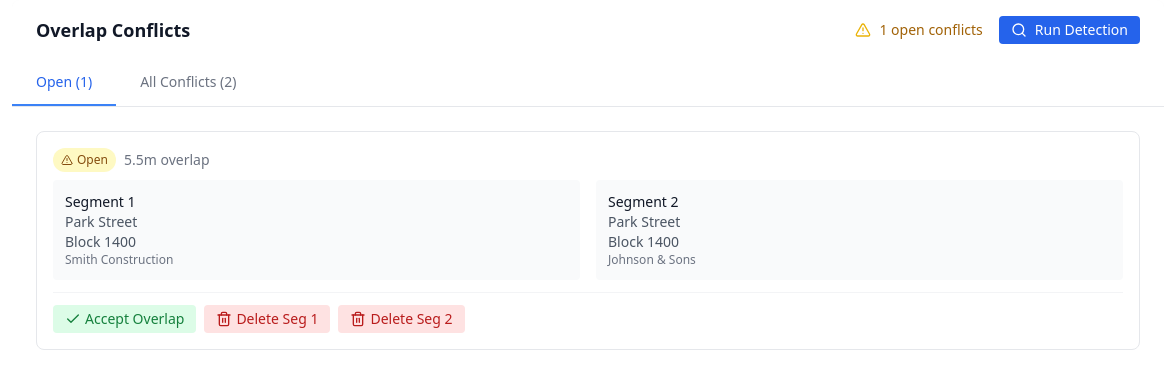
AdminConflictResolution Component › disables buttons while processing
Expected: the text "Park Street" below "Segment 1" is shown, [65, 212, 137, 231]
Click the button "Accept Overlap".
click(125, 319)  # box [53, 305, 196, 333]
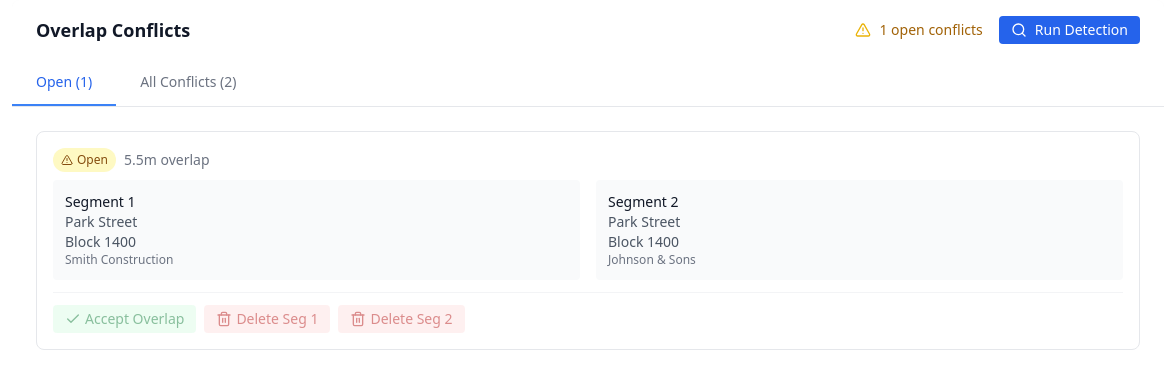
Expected: the button "Accept Overlap" is disabled, [53, 305, 196, 333]
